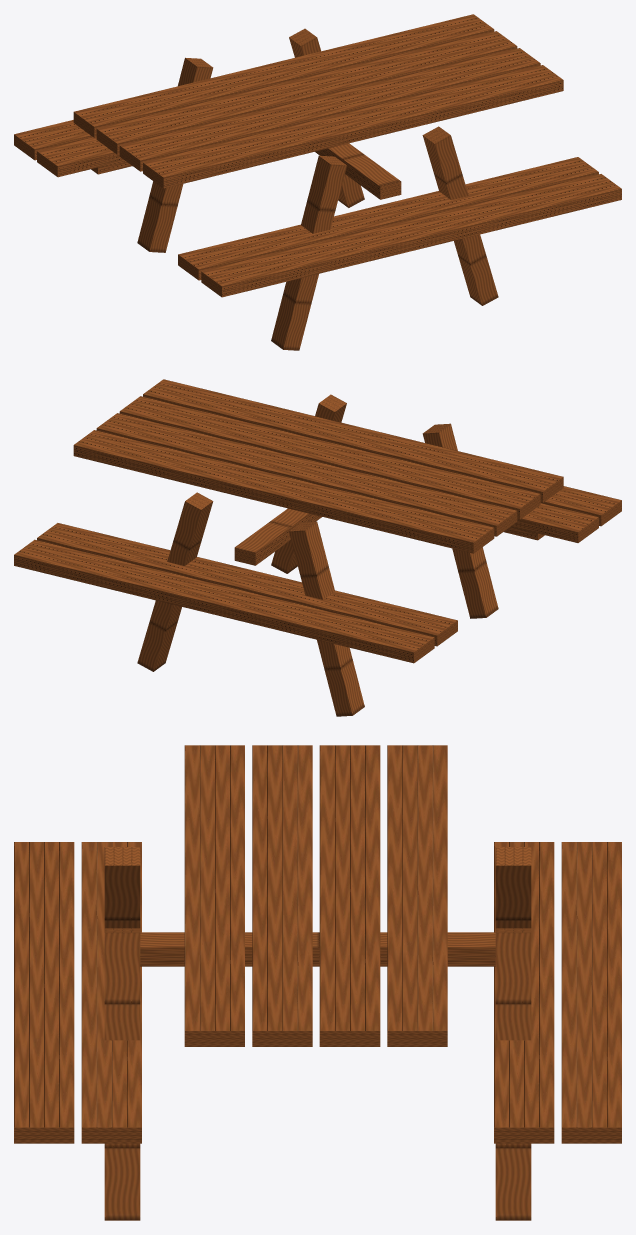
File: city-park-and-playground-picnic-table-97b71a11.glb
The picture shows the model from 3 angles, top to bottom: view 1: azimuth 30°, elevation 25°; view 2: azimuth 150°, elevation 25°; view 3: azimuth 270°, elevation 25°; orthographic projection. The views are drawn at different scales.
Visible parts, largest first — view 1: picnic-table-timber; view 2: picnic-table-timber; view 3: picnic-table-timber.
Part boxes in pixels (left/top/right/bottom): picnic-table-timber: left=14, top=14, right=621, bottom=350; picnic-table-timber: left=14, top=379, right=621, bottom=716; picnic-table-timber: left=14, top=745, right=621, bottom=1220.
Size of the model in its own units: 1.9 by 0.8151 by 1.71.
Materials: 1 (1 with a texture image).
